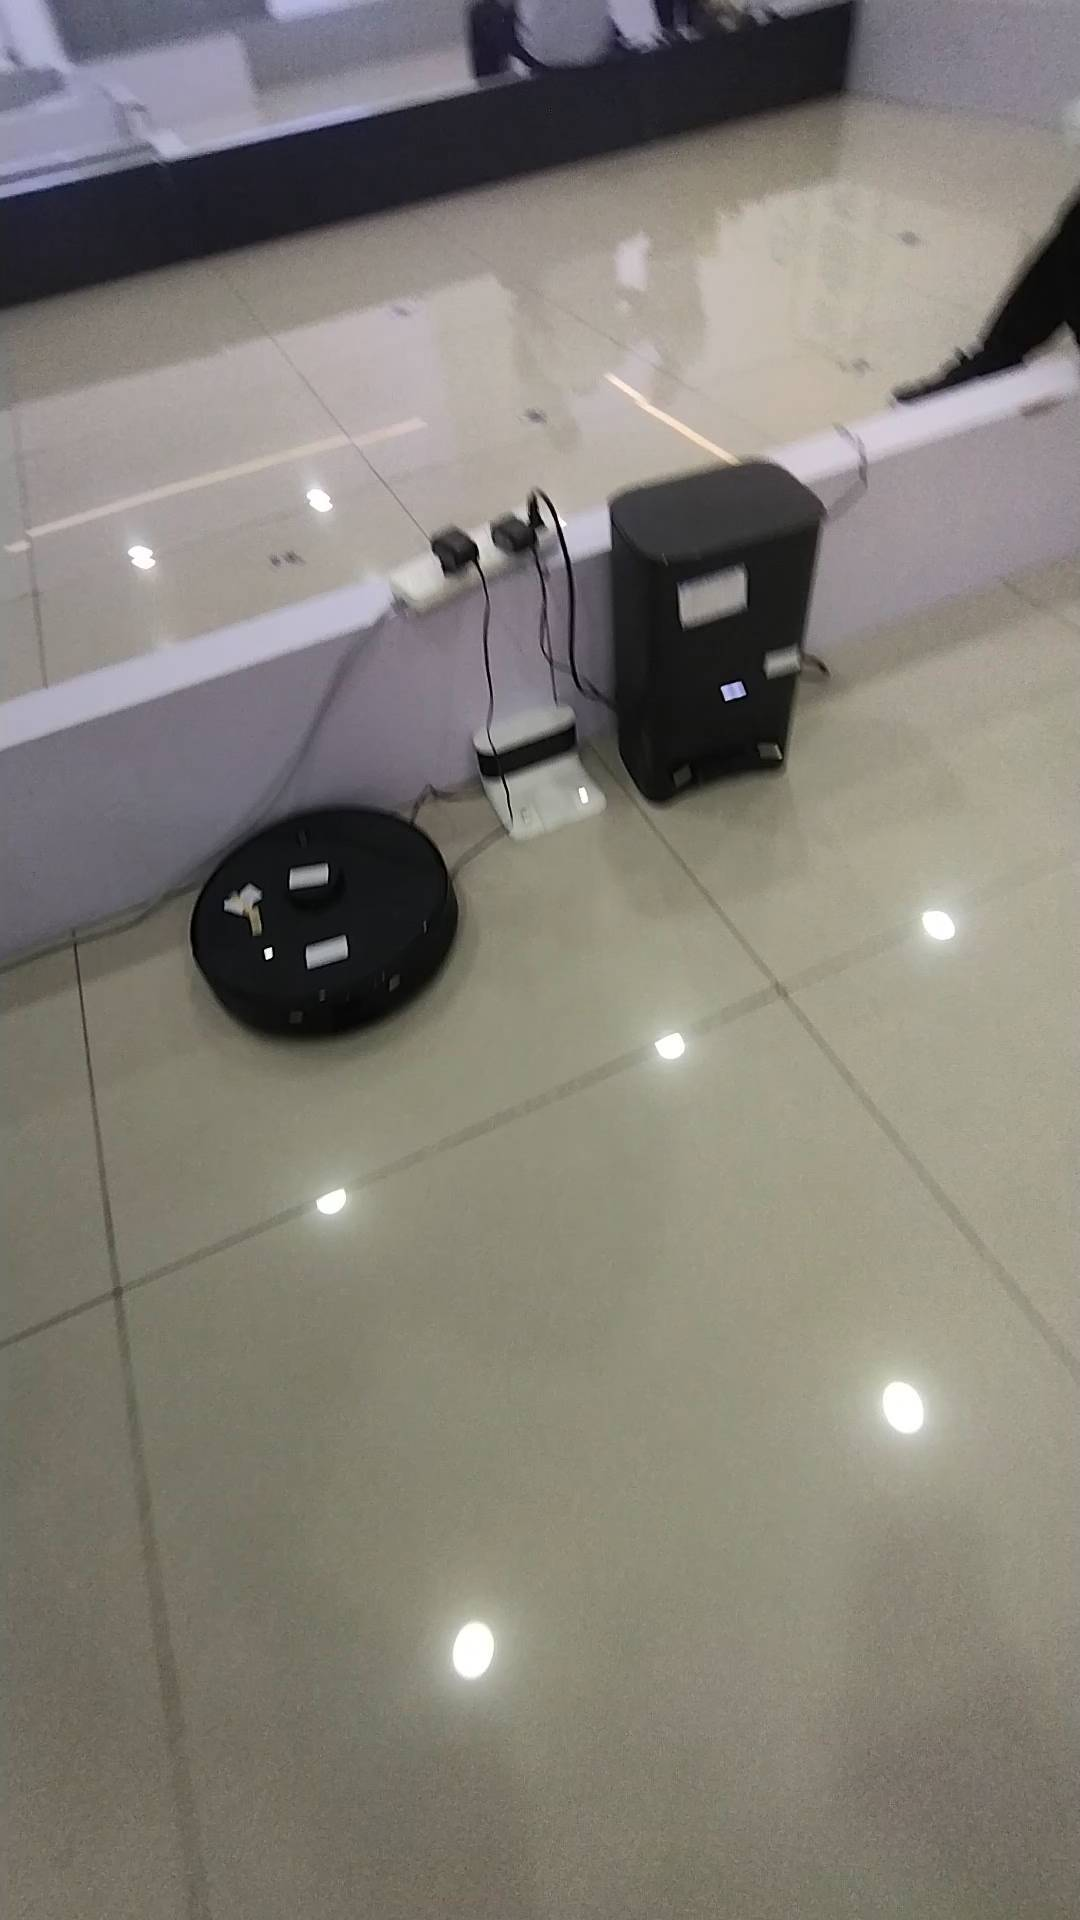dust collecting barrel: (605, 462, 825, 804)
recharge seat: (469, 704, 607, 845)
